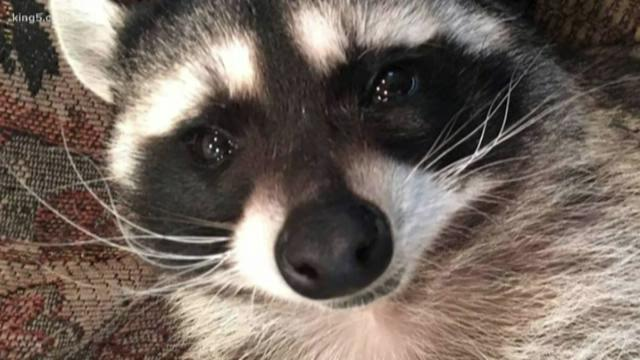raccoon: (52, 5, 640, 358)
